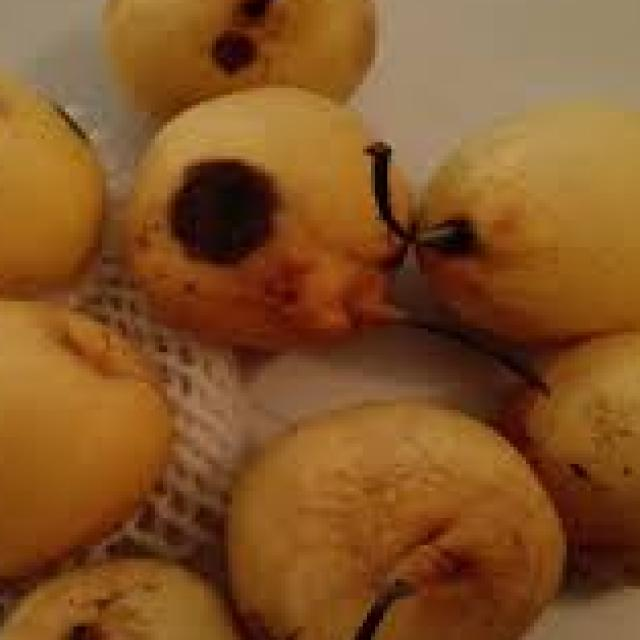inorganic: (222, 372, 562, 633), (135, 82, 419, 344), (3, 282, 173, 601), (414, 114, 635, 358), (84, 20, 423, 114), (484, 340, 640, 535), (0, 73, 109, 301), (12, 555, 293, 635)
